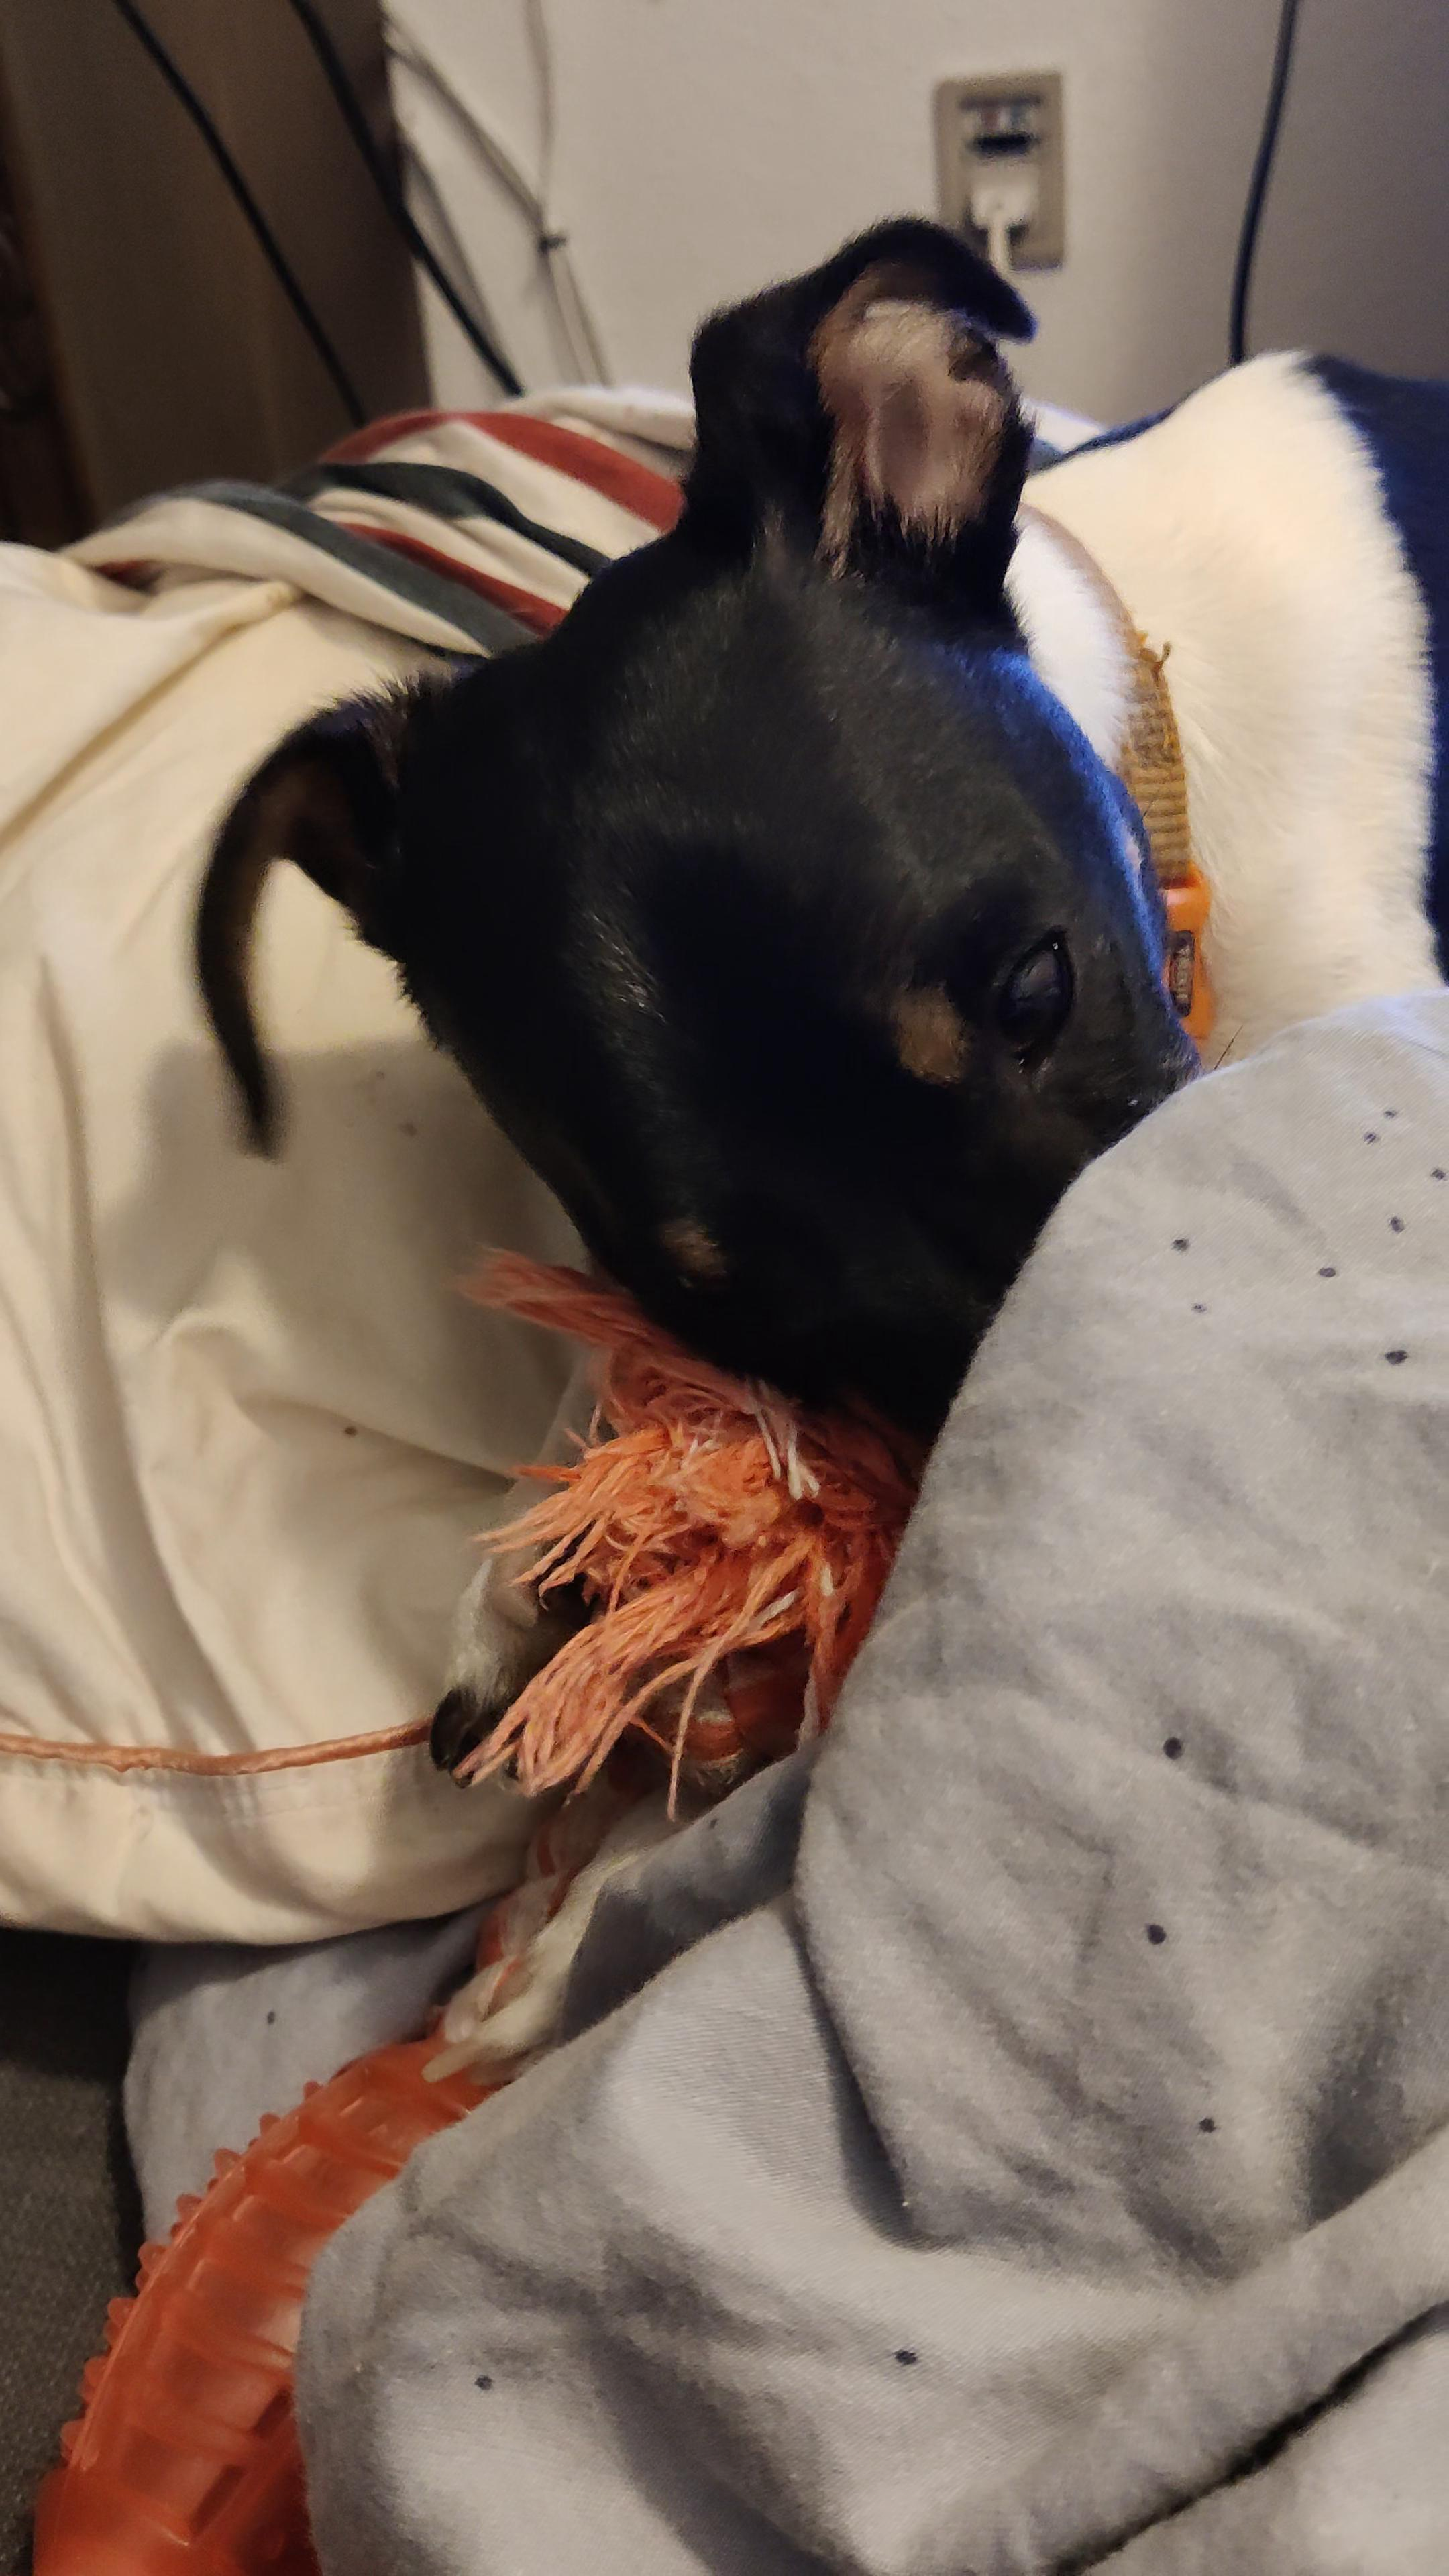Dog: (175, 200, 1449, 2097)
